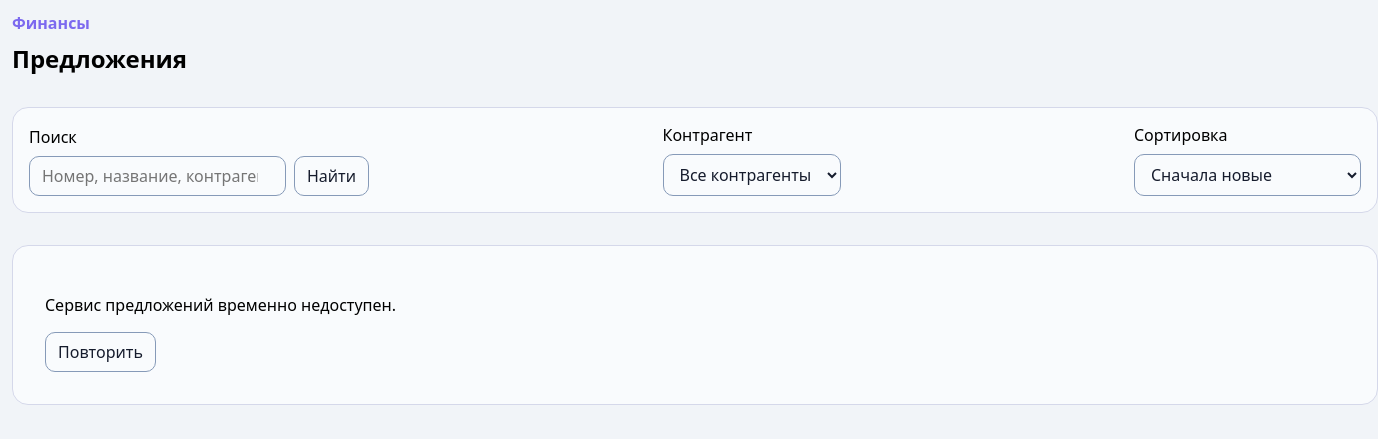
Test: Offers list › shows an explicit empty state and a failure state with retry
This screenshot has width=1378, height=439.
Expected: the message "Сервис предложений временно недоступен. Повторить" is shown, [12,245,1377,405]
Click the button "Повторить" at (100, 352), box [45,332,156,372]
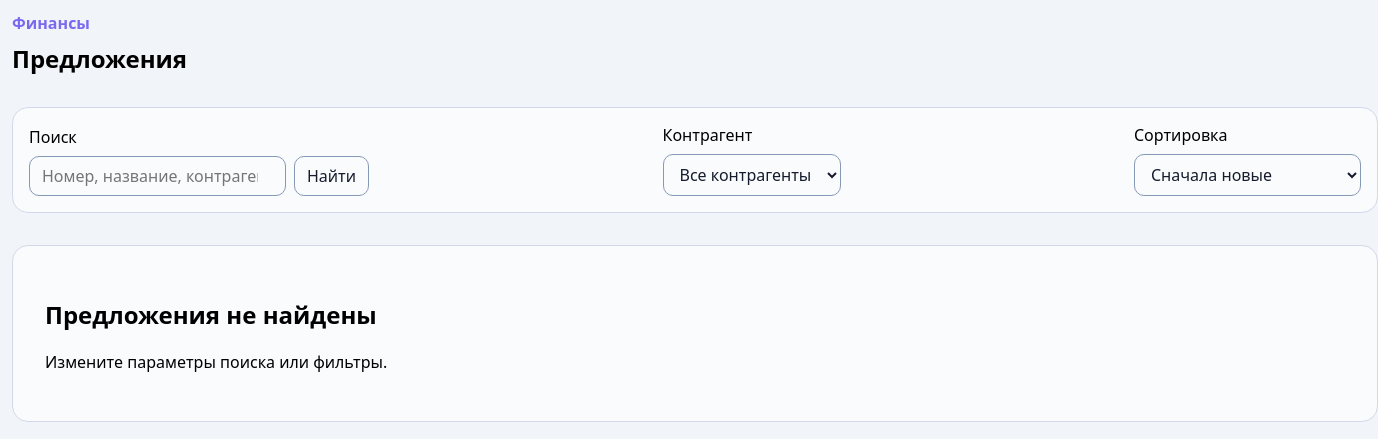
Expected: the heading "Предложения не найдены" is shown, [45,298,377,331]
